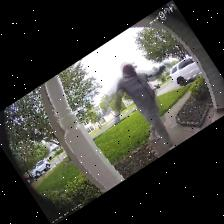person: (114, 64, 173, 149)
